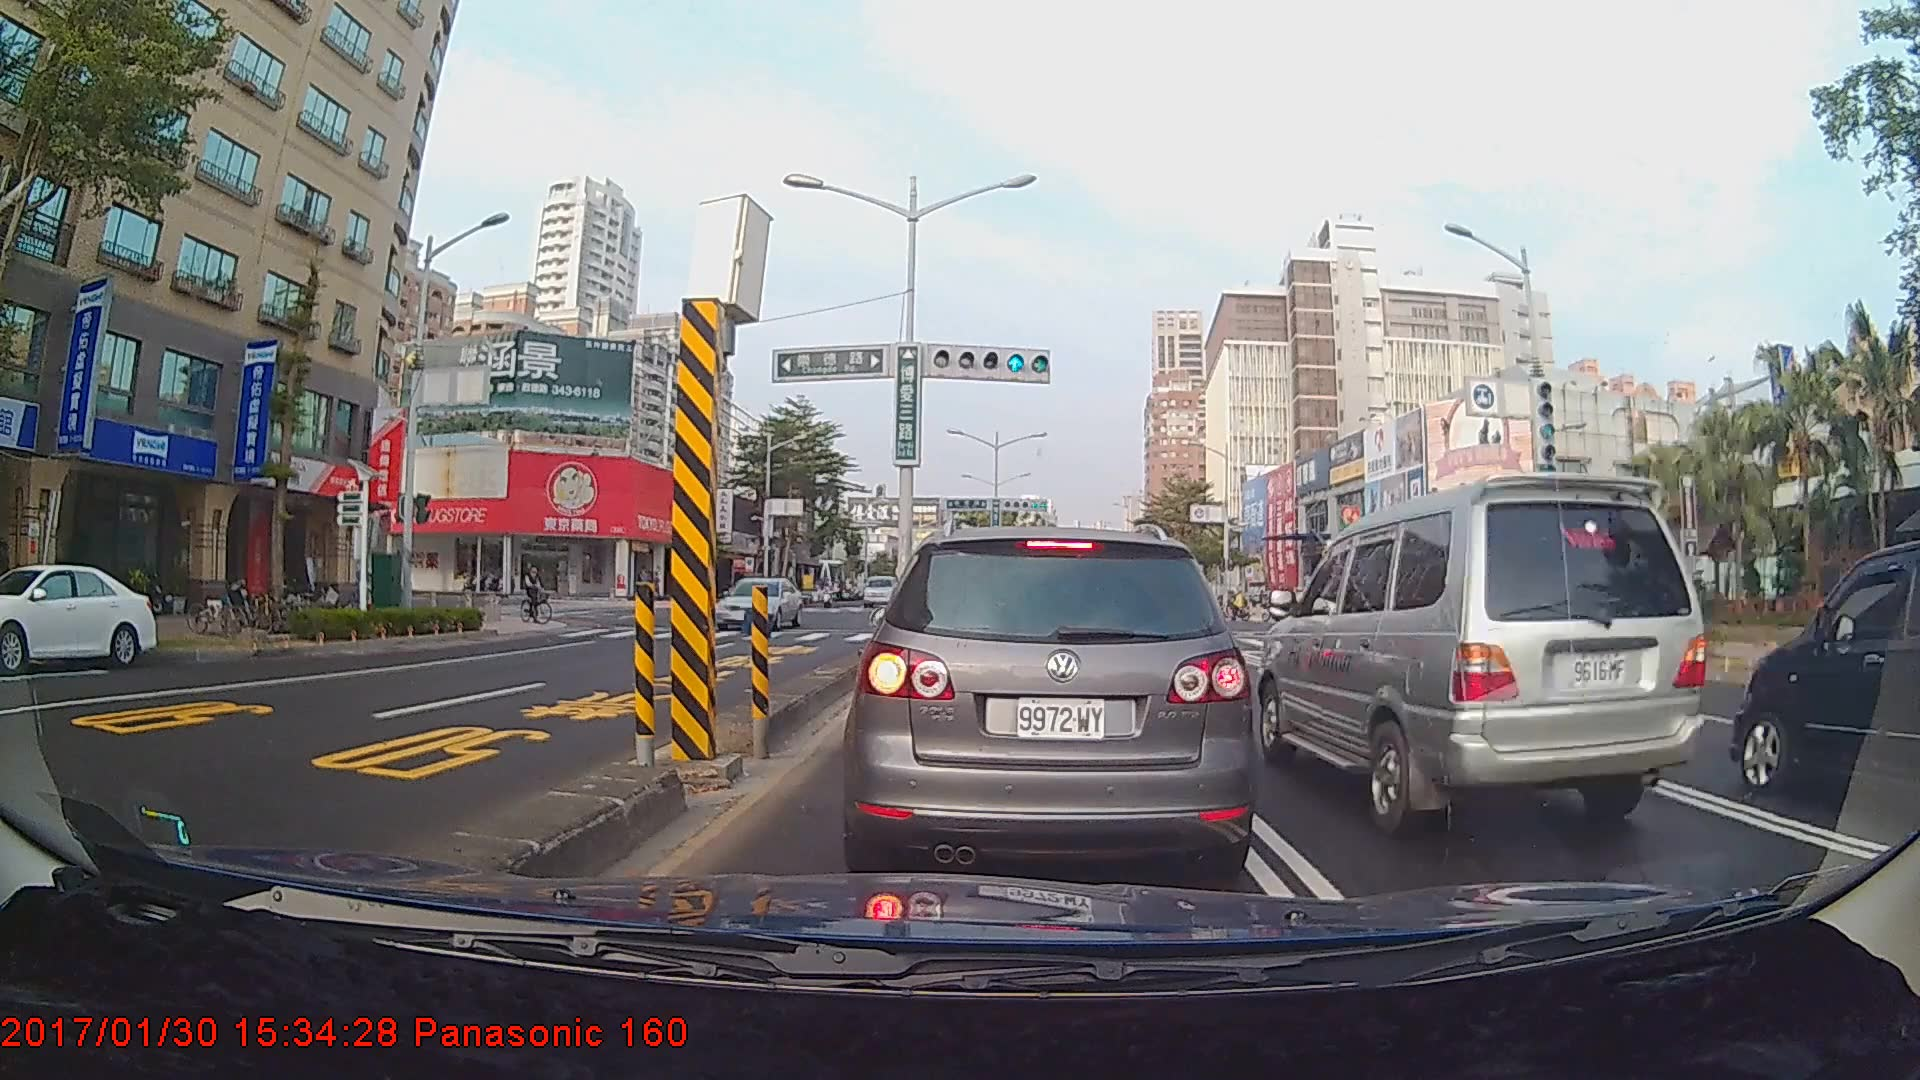rider: (518, 559, 561, 629)
vehicle: (1257, 476, 1708, 831), (852, 520, 1248, 882), (1726, 531, 1920, 827), (0, 561, 157, 671), (716, 574, 803, 632), (860, 573, 900, 607)
